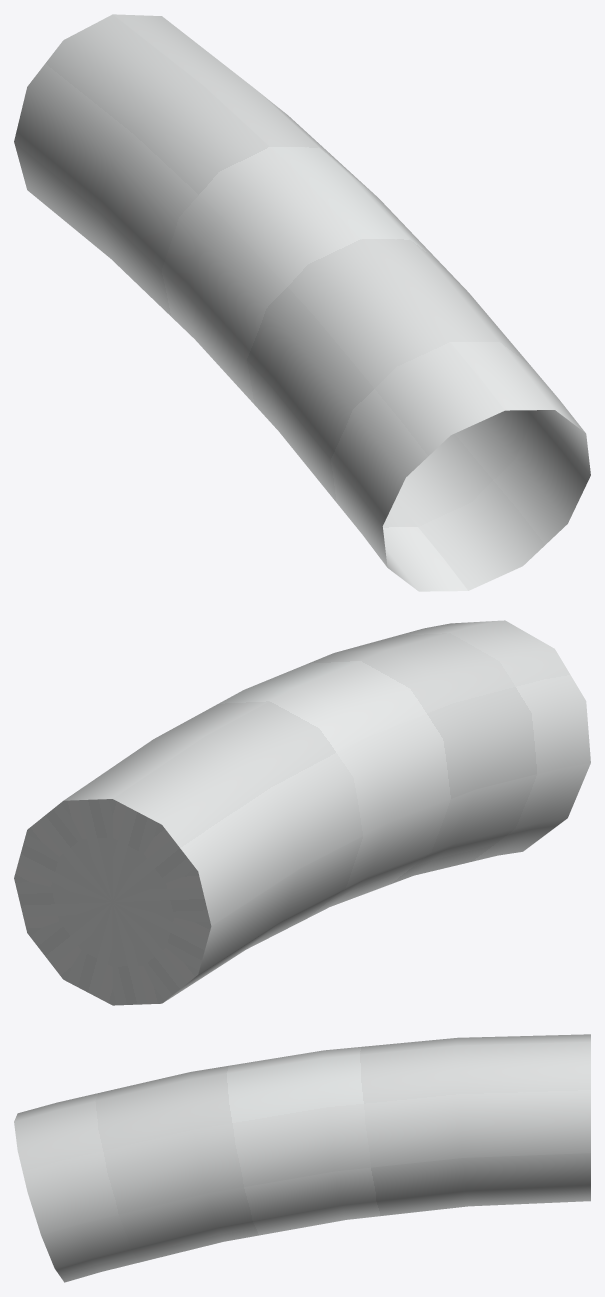
File: luminairearm_vannuystriple_c8.obj
3 views of the same model, one above another, from view 1: azimuth 30°, elevation 25°; view 2: azimuth 150°, elevation 25°; view 3: azimuth 270°, elevation 25° (orthographic). The views are drawn at different scales.
Parts seen in each view (by area): view 1: luminairearm_vannuystriple_c8; view 2: luminairearm_vannuystriple_c8; view 3: luminairearm_vannuystriple_c8.
Boxes of the visible parts, left/top/right/bottom form: luminairearm_vannuystriple_c8: left=14, top=14, right=590, bottom=591; luminairearm_vannuystriple_c8: left=14, top=620, right=590, bottom=1005; luminairearm_vannuystriple_c8: left=14, top=1034, right=590, bottom=1282.
Size of the model in its own units: 0.1714 by 0.2488 by 0.5598.
